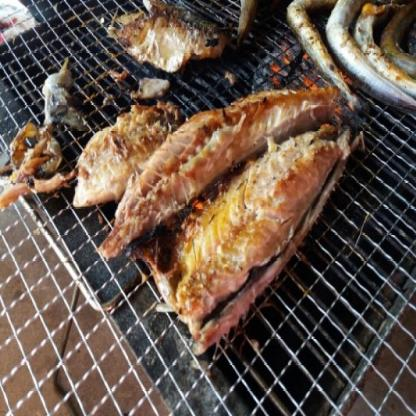Peixe: (90, 80, 357, 365), (106, 2, 235, 79)
